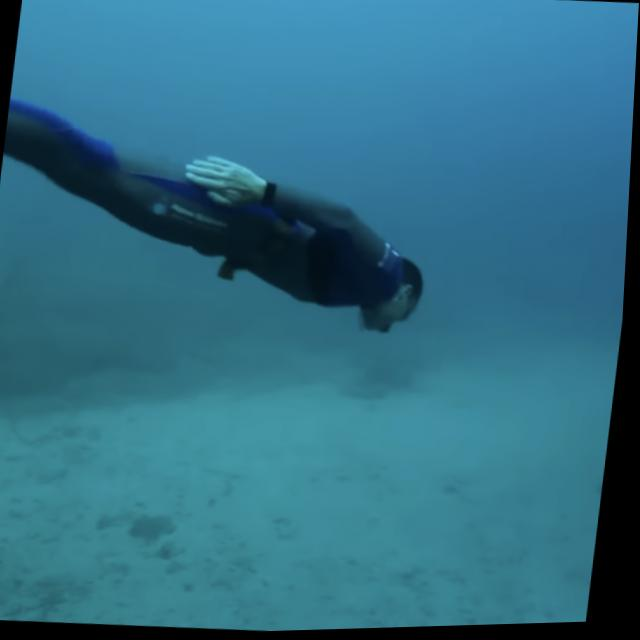human: (0, 38, 455, 357)
